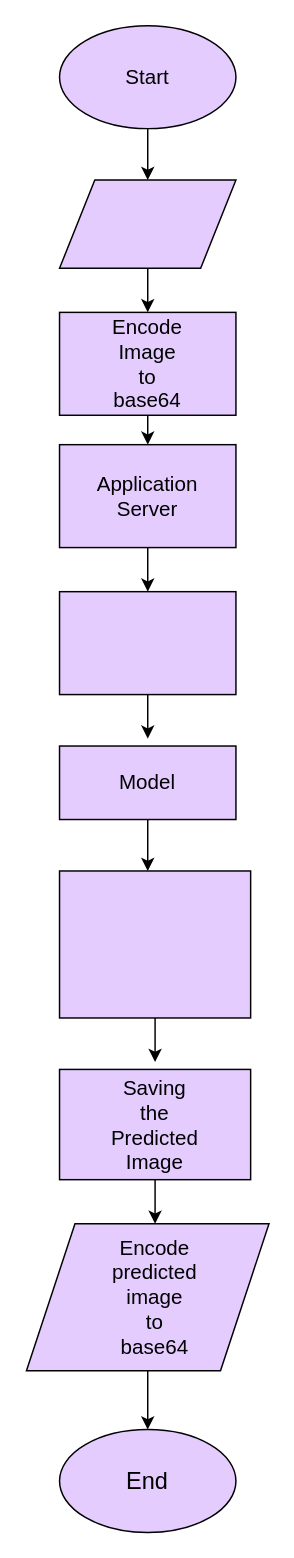
Some shapes in this 294 by 1558 pixel diagram are drawn without their labels. The centre of each missing label's shape, as x and y in pixels:
Decode base64 to Image: the point at 147,642
Image: the point at 147,223
Predicted Class, Bounding Box & Score: the point at 154,944
